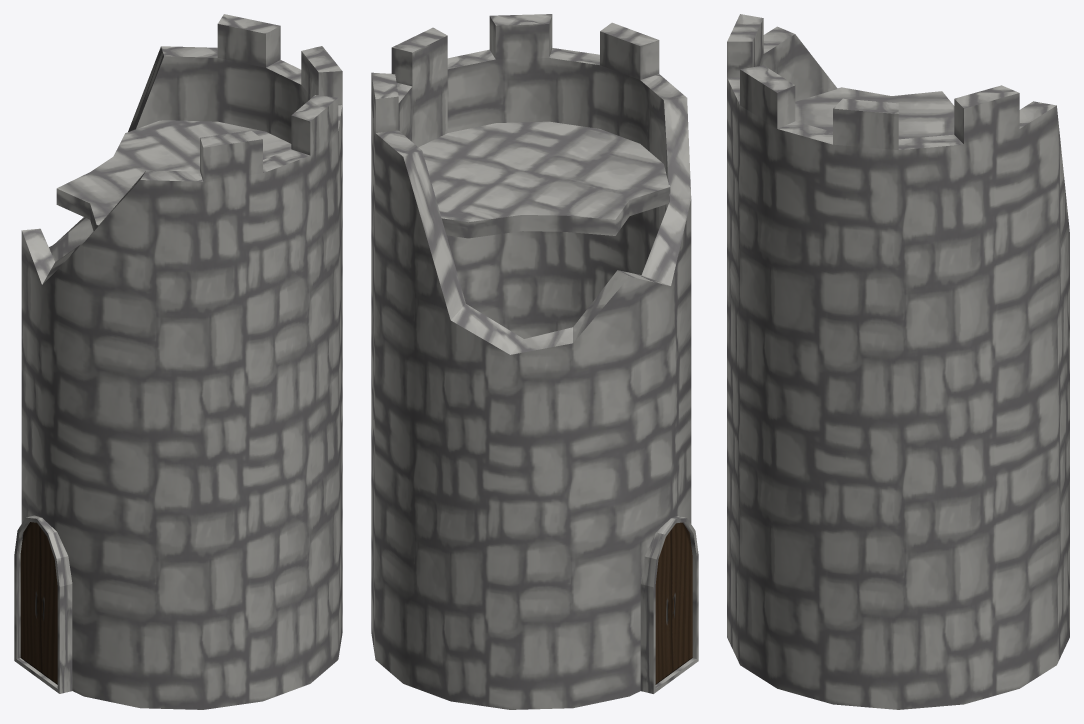
The model's file is Keep_Geo.fbx.
3 views of the same model, side by side, from view 1: azimuth 30°, elevation 25°; view 2: azimuth 150°, elevation 25°; view 3: azimuth 270°, elevation 25° (orthographic). The views are drawn at different scales.
Parts seen in each view (by area): view 1: Keep_Geo; view 2: Keep_Geo; view 3: Keep_Geo.
Boxes of the visible parts, bbox=[...] form: Keep_Geo: bbox=[14, 14, 342, 709]; Keep_Geo: bbox=[371, 14, 698, 709]; Keep_Geo: bbox=[727, 14, 1069, 709].
Bounding box in the file's own units: 209 × 394 × 206.
